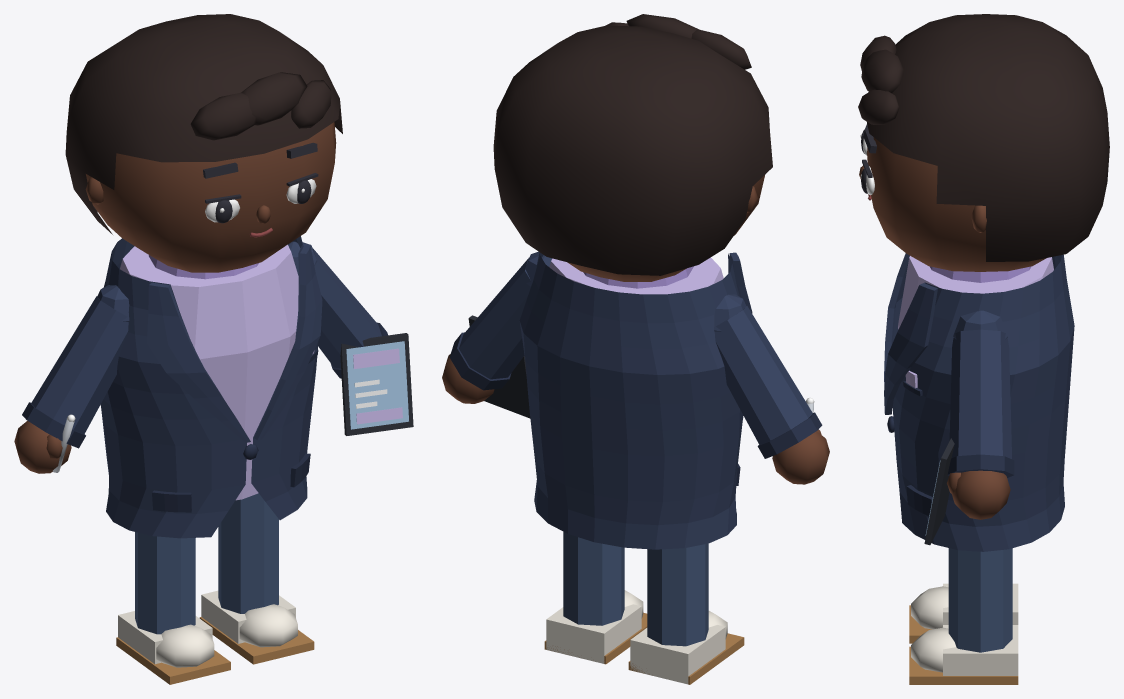
The model's file is psychologist.glb.
The picture shows the model from 3 angles, left to right: view 1: azimuth 30°, elevation 25°; view 2: azimuth 150°, elevation 25°; view 3: azimuth 270°, elevation 25°; orthographic projection.
Parts seen in each view (by area): view 1: Hair, Blazer, Head, Torso, ArmR, LegL, LegR, LapelR, LapelL, ArmL, TabletScreen, HairLock1 (+15 smaller); view 2: Hair, Blazer, ArmR, LegR, LegL, ArmL, ShoeL, ShoeR, Torso, HandR, Tablet, HandL (+8 smaller); view 3: Hair, Blazer, Head, ArmL, LegL, LapelL, Torso, HandL, ShoeL, HairLock1, ToeL, SoleL (+10 smaller).
Boxes of the visible parts, box(x1,y1,x2,y2) form: Hair: box(65, 14, 342, 234); Blazer: box(100, 236, 321, 538); Head: box(86, 122, 336, 272); Torso: box(120, 244, 298, 500); ArmR: box(31, 296, 128, 434); LegL: box(218, 493, 278, 613); LegR: box(135, 532, 195, 634); LapelR: box(147, 282, 250, 442); LapelL: box(254, 245, 322, 440); ArmL: box(313, 248, 381, 368); TabletScreen: box(346, 341, 408, 429); HairLock1: box(241, 72, 307, 125); Hair: box(493, 25, 772, 275); Blazer: box(519, 252, 743, 549); ArmR: box(714, 306, 812, 444); LegR: box(647, 543, 708, 646); LegL: box(563, 531, 624, 625); ArmL: box(459, 258, 530, 379); ShoeL: box(546, 604, 641, 663); ShoeR: box(630, 625, 725, 684); Torso: box(549, 257, 723, 294); HandR: box(772, 431, 829, 484); Tablet: box(468, 315, 530, 418); HandL: box(442, 354, 494, 403); Hair: box(867, 14, 1109, 261); Blazer: box(892, 254, 1074, 551); Head: box(867, 137, 1046, 271); ArmL: box(949, 329, 1011, 458); LegL: box(948, 548, 1012, 652); LapelL: box(884, 283, 937, 414); Torso: box(898, 256, 1053, 329); HandL: box(952, 470, 1010, 519); ShoeL: box(943, 625, 1018, 675); HairLock1: box(861, 49, 903, 93); ToeL: box(911, 627, 956, 672); SoleL: box(909, 646, 1018, 684).
Size of the model in its own units: 1.34 by 2.04 by 0.7607.
